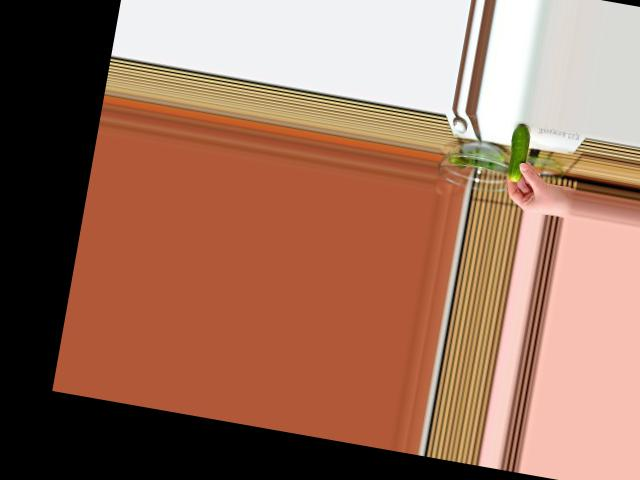cucumber: (504, 122, 532, 183)
